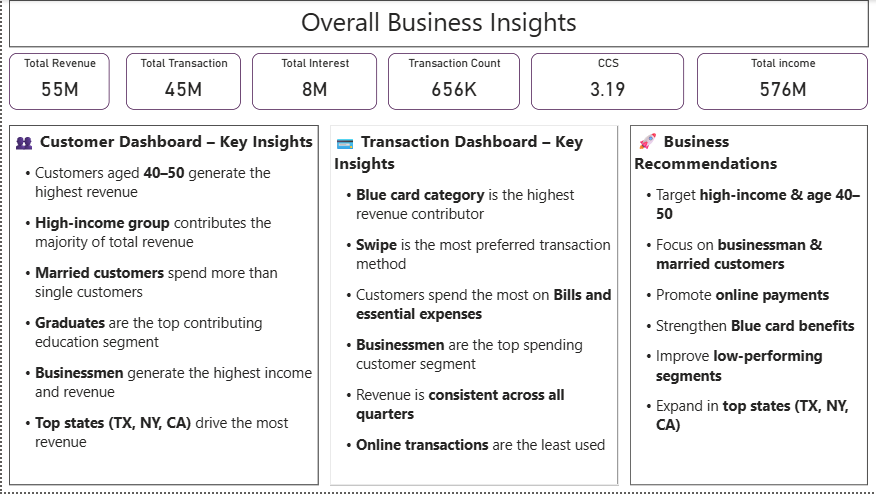

The page's visual inventory and layout, read from the dashboard file:
{"tool":"powerbi","page":{"name":"insights","canvas":[1280,720],"ordinal":3},"visuals":[{"type":"textbox","box":[9.6,0,1258,68.8],"z":0},{"type":"textbox","box":[9.6,183.1,452.8,527.1],"z":1000},{"type":"card","title":"Total Revenue","fields":{"Values":["Sum(public credit_card_data2.Revenue)"]},"box":[9.6,77.1,147.3,82.6],"z":2000},{"type":"card","title":"Total Transaction","fields":{"Values":["Sum(public credit_card_data2.total_trans_amt)"]},"box":[181.7,77.1,167.9,82.6],"z":3000},{"type":"card","title":"Total Interest","fields":{"Values":["Sum(public credit_card_data2.interest_earned)"]},"box":[366.1,77.1,183.1,82.6],"z":4000},{"type":"card","title":" Transaction Count","fields":{"Values":["Sum(public credit_card_data2.total_trans_vol)"]},"box":[564.3,77.1,192.7,82.6],"z":5000},{"type":"textbox","box":[480.3,183.1,422,527],"z":6000},{"type":"textbox","box":[919.4,183.1,348.2,527.1],"z":7000},{"type":"card","title":"CCS","fields":{"Values":["Avg(public customers.cust_satisfaction_score)"]},"box":[773.5,77.1,224.3,82.6],"z":8000},{"type":"card","title":" Total income","fields":{"Values":["Sum(public customers.income)"]},"box":[1017.1,77.1,250.5,82.6],"z":9000}]}

Visuals, with their boxes in screenshot pixels (x1, y1, x2, y2), scaled from the page's 1280x720 canvas onto the 876x494 screenshot:
textbox: locate(7, 0, 868, 47)
textbox: locate(7, 126, 316, 487)
"Total Revenue" card: locate(7, 53, 107, 110)
"Total Transaction" card: locate(124, 53, 239, 110)
"Total Interest" card: locate(251, 53, 376, 110)
" Transaction Count" card: locate(386, 53, 518, 110)
textbox: locate(329, 126, 618, 487)
textbox: locate(629, 126, 868, 487)
"CCS" card: locate(529, 53, 683, 110)
" Total income" card: locate(696, 53, 868, 110)
